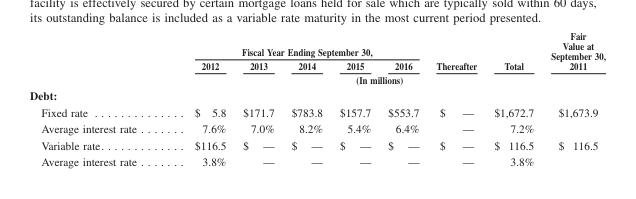table: (29, 29, 604, 167)
table column: (29, 29, 165, 167), (165, 29, 233, 167), (541, 29, 604, 167), (427, 29, 484, 167), (484, 29, 541, 167), (233, 29, 282, 167), (378, 29, 427, 167), (282, 29, 330, 167), (330, 29, 378, 167)
table column header: (29, 29, 604, 87)
table projected row header: (29, 87, 604, 103)
table row: (29, 29, 604, 58), (29, 103, 604, 120), (29, 136, 604, 153), (29, 87, 604, 103), (29, 120, 604, 136), (29, 72, 604, 87), (29, 58, 604, 72), (29, 153, 604, 167)
table spanning cell: (165, 29, 427, 58), (541, 29, 604, 87), (427, 29, 484, 87), (484, 29, 541, 87), (165, 58, 233, 87), (330, 72, 427, 87), (233, 58, 282, 87), (282, 58, 330, 87)
